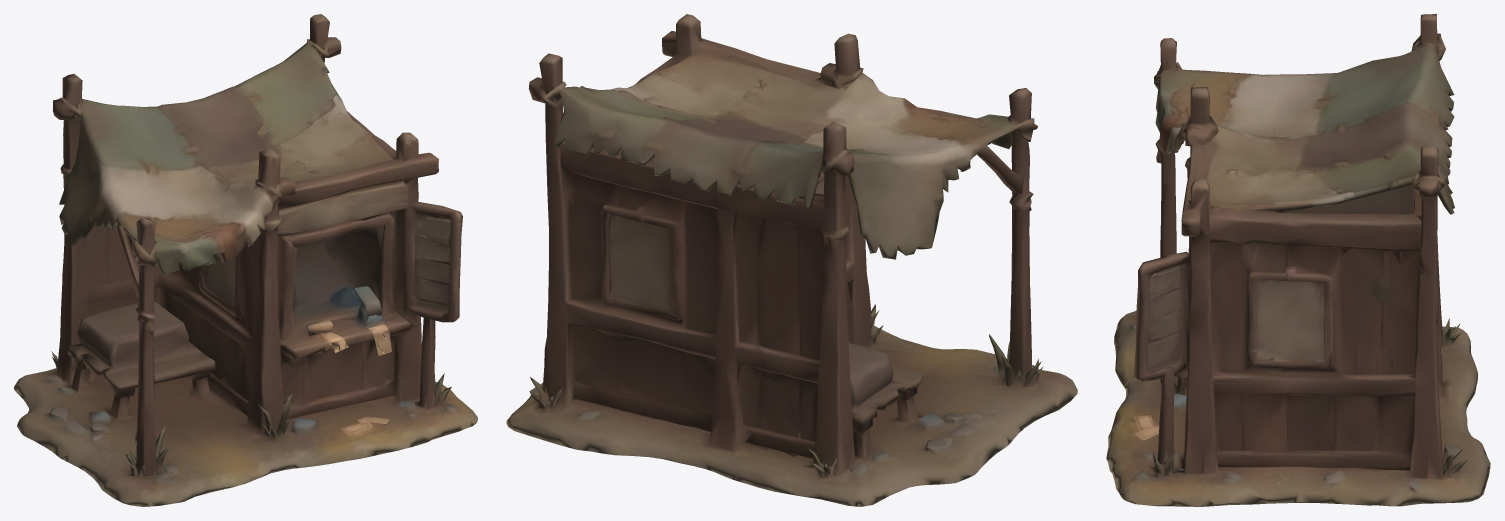
File: motor_park_kiosk.glb
The picture shows the model from 3 angles, left to right: view 1: azimuth 30°, elevation 25°; view 2: azimuth 150°, elevation 25°; view 3: azimuth 270°, elevation 25°; orthographic projection. The views are drawn at different scales.
Parts seen in each view (by area): view 1: tripo_node_5b475a5d-88f9-4ba7-95c1-512d595aa43a; view 2: tripo_node_5b475a5d-88f9-4ba7-95c1-512d595aa43a; view 3: tripo_node_5b475a5d-88f9-4ba7-95c1-512d595aa43a.
Part boxes in pixels (left/top/right/bottom): tripo_node_5b475a5d-88f9-4ba7-95c1-512d595aa43a: left=14, top=14, right=477, bottom=506; tripo_node_5b475a5d-88f9-4ba7-95c1-512d595aa43a: left=506, top=14, right=1077, bottom=506; tripo_node_5b475a5d-88f9-4ba7-95c1-512d595aa43a: left=1106, top=14, right=1490, bottom=506.
Size of the model in its own units: 1 by 0.8223 by 0.8295.
1 material, 1 textured.
